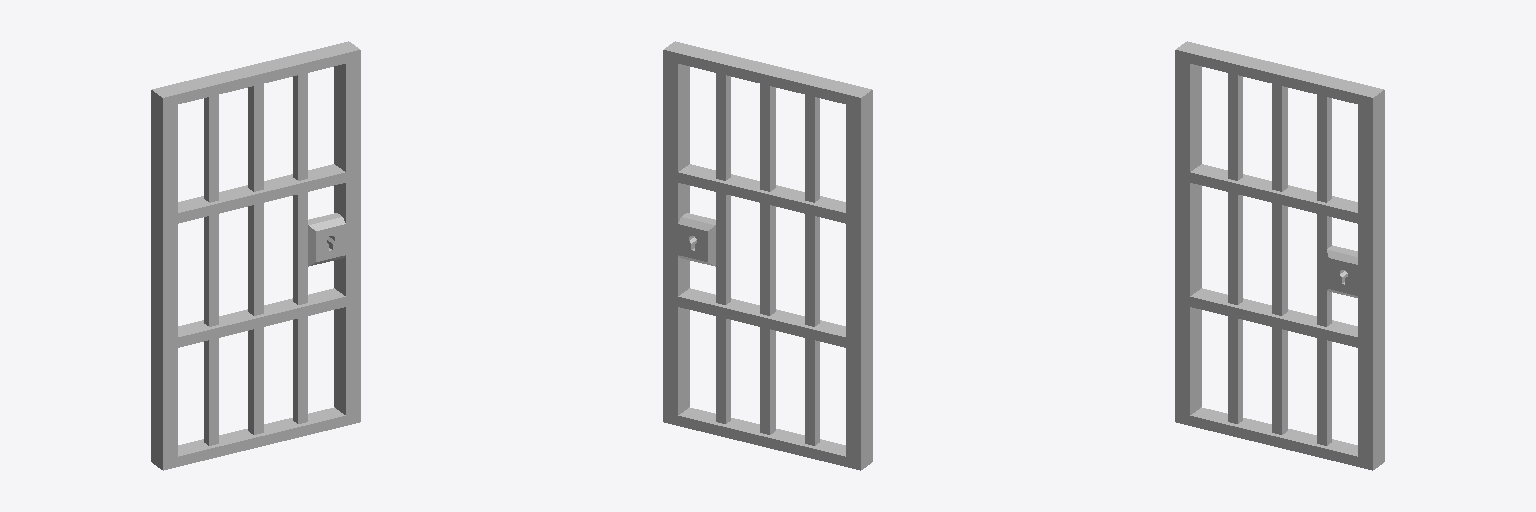
Rendered from prop_wall_door_cell.obj.
3 views of the same model, side by side, from view 1: azimuth 30°, elevation 25°; view 2: azimuth 150°, elevation 25°; view 3: azimuth 330°, elevation 25° (orthographic).
Visible parts, largest first — view 1: prop_wall_door_cell; view 2: prop_wall_door_cell; view 3: prop_wall_door_cell.
Part boxes in pixels (left/top/right/bottom): prop_wall_door_cell: left=151, top=41, right=360, bottom=470; prop_wall_door_cell: left=663, top=41, right=872, bottom=470; prop_wall_door_cell: left=1175, top=41, right=1384, bottom=470.
Size of the model in its own units: 0.5 by 0.9 by 0.05.